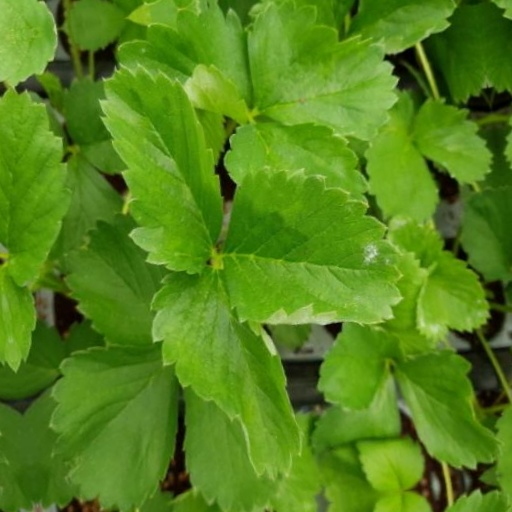Powdery Mildew Leaf: (111, 167, 293, 344), (31, 287, 111, 372)
